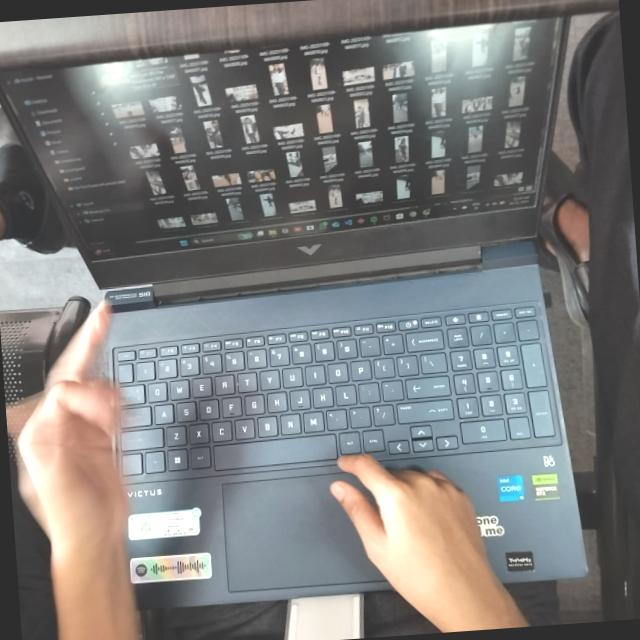laptop: (53, 0, 602, 628)
